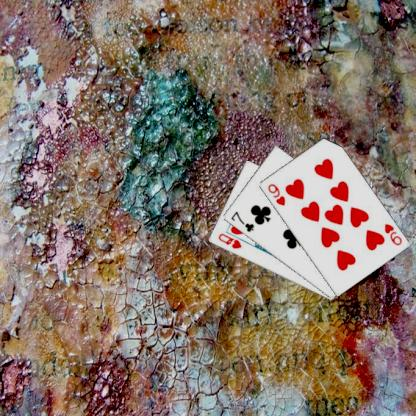7C: (228, 209, 256, 233)
9H: (381, 221, 403, 246), (265, 180, 286, 206)
QH: (215, 231, 243, 250)
